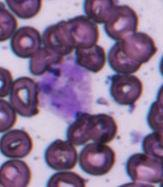N: (37, 61, 92, 121)
